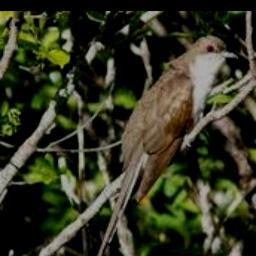Cuckoo: (91, 35, 240, 256)
